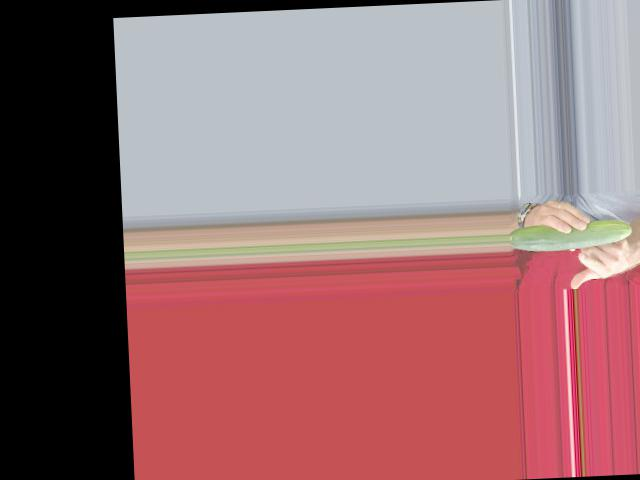cucumber: (508, 217, 632, 252)
